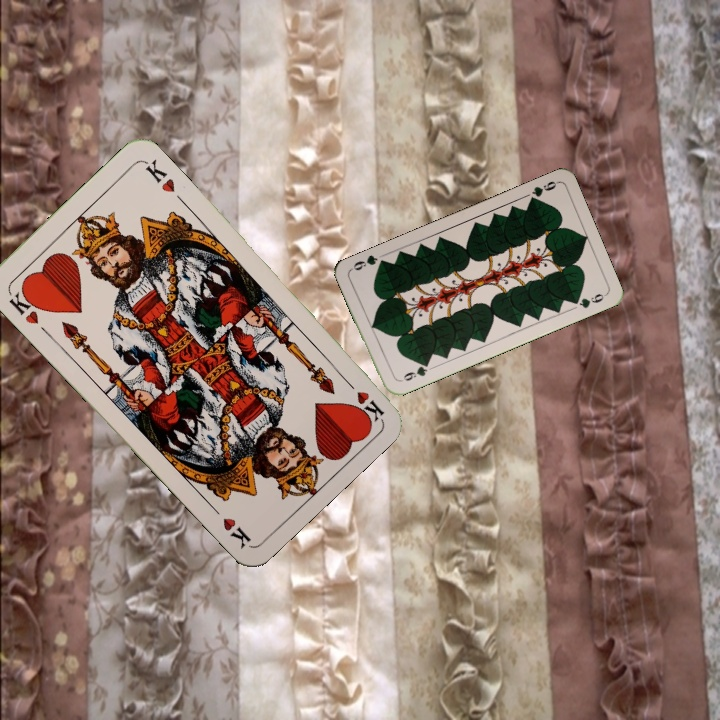G9: (525, 177, 560, 206), (395, 358, 432, 385)
HK: (338, 372, 386, 423), (5, 283, 45, 327)
